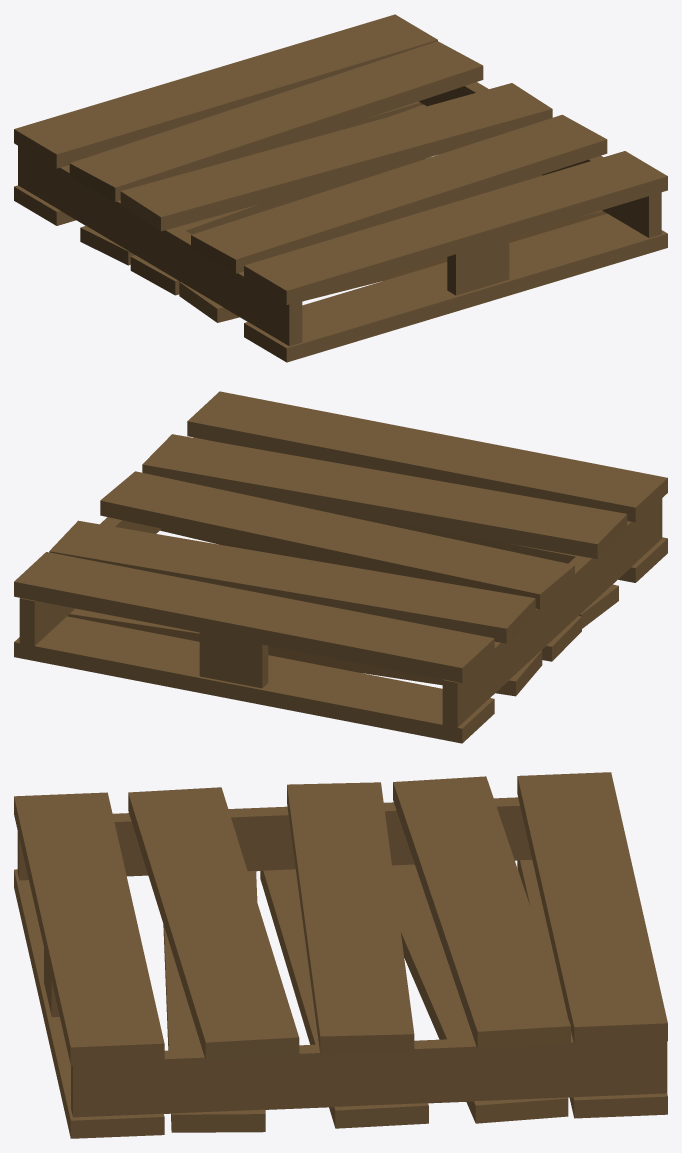
The model's file is Wood Boards.fbx.
The picture shows the model from 3 angles, top to bottom: view 1: azimuth 30°, elevation 25°; view 2: azimuth 150°, elevation 25°; view 3: azimuth 270°, elevation 25°; orthographic projection. The views are drawn at different scales.
Parts seen in each view (by area): view 1: Wood Boards; view 2: Wood Boards; view 3: Wood Boards.
Part boxes in pixels (<box>): Wood Boards: <box>14,14,667,362</box>; Wood Boards: <box>14,391,667,743</box>; Wood Boards: <box>14,772,667,1138</box>.
Size of the model in its own units: 165 by 166 by 25.55.
